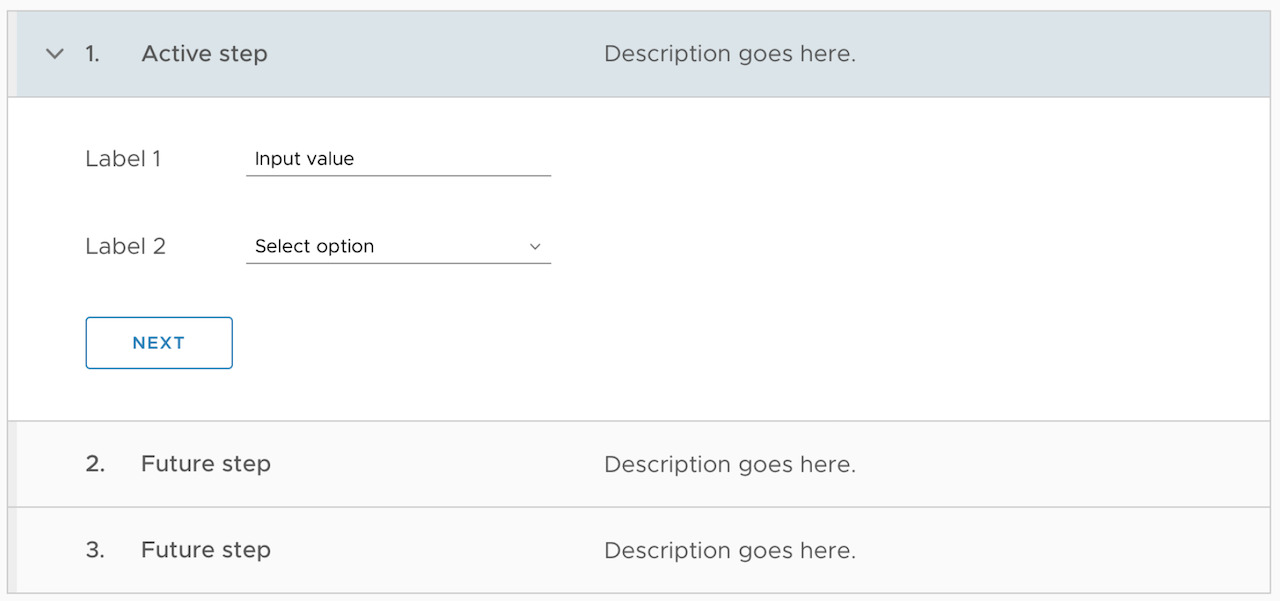_form_: (60, 37, 573, 405)
button: (83, 317, 235, 371)
field: (241, 143, 556, 181)
field_with_label: (85, 224, 562, 269), (83, 139, 560, 183)
select: (241, 228, 556, 268)
